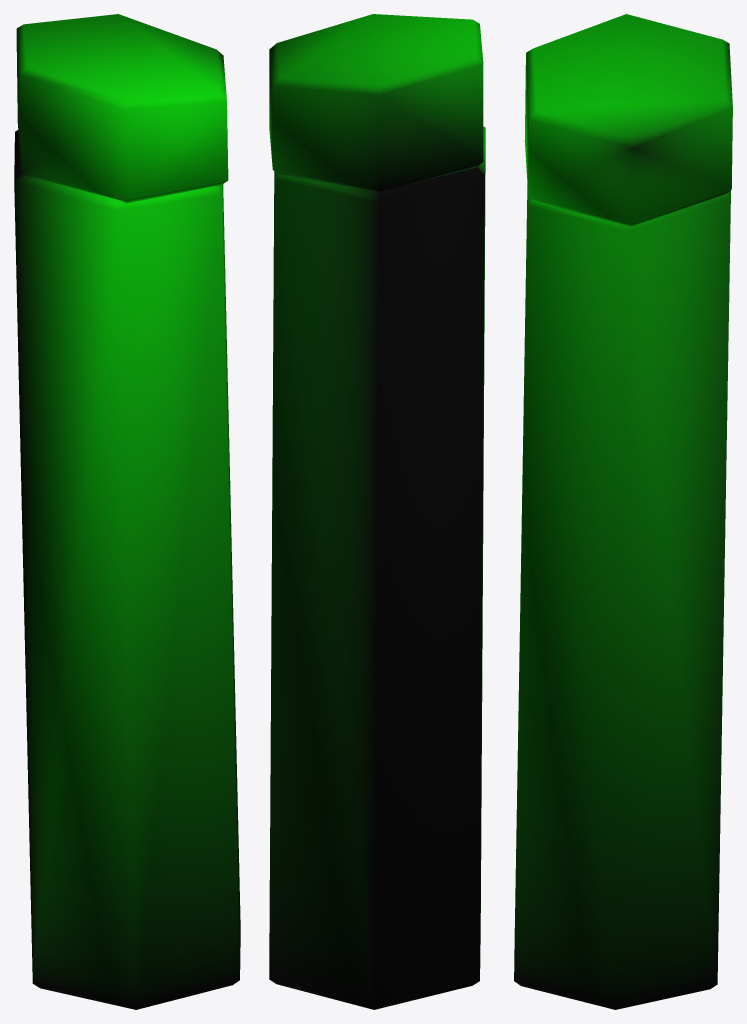
File: SM_RockHexic_Piece15.fbx
The picture shows the model from 3 angles, left to right: view 1: azimuth 30°, elevation 25°; view 2: azimuth 150°, elevation 25°; view 3: azimuth 270°, elevation 25°; orthographic projection. The views are drawn at different scales.
Parts seen in each view (by area): view 1: SM_RockHexic_Piece15; view 2: SM_RockHexic_Piece15; view 3: SM_RockHexic_Piece15.
Boxes of the visible parts, x1=… form: SM_RockHexic_Piece15: x1=14, y1=14, x2=240, y2=1009; SM_RockHexic_Piece15: x1=269, y1=14, x2=485, y2=1009; SM_RockHexic_Piece15: x1=514, y1=14, x2=732, y2=1009.
Size of the model in its own units: 418 by 369 by 1678.
